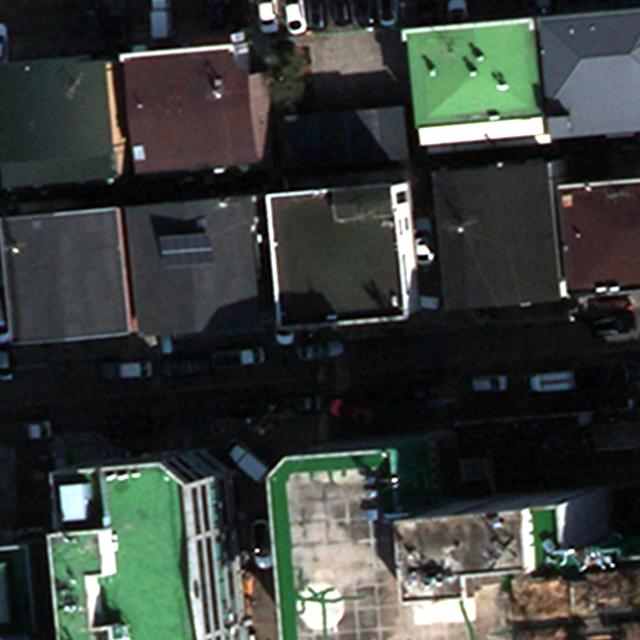panel: (156, 229, 214, 271)
